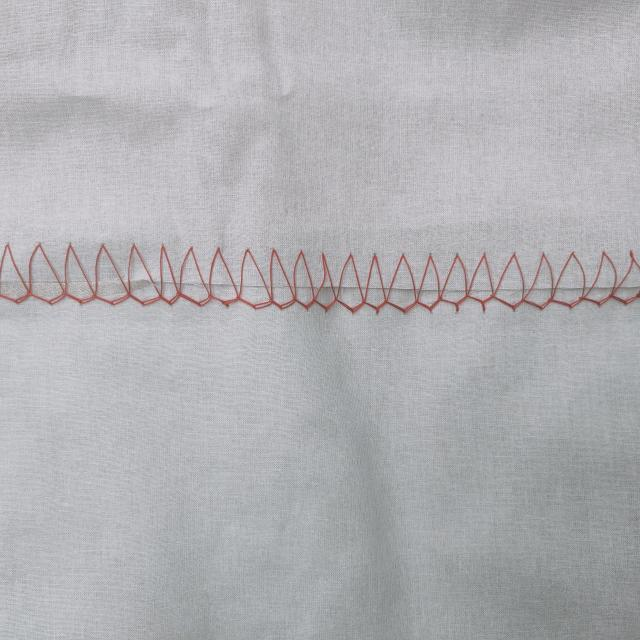gray stitch: (3, 230, 640, 316)
